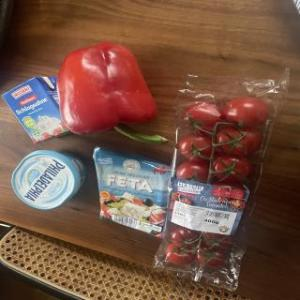bell_pepper: (53, 40, 172, 153)
tomato: (205, 120, 263, 158), (219, 94, 269, 132), (178, 96, 220, 136), (206, 154, 255, 188), (176, 130, 216, 164), (173, 158, 209, 188)
